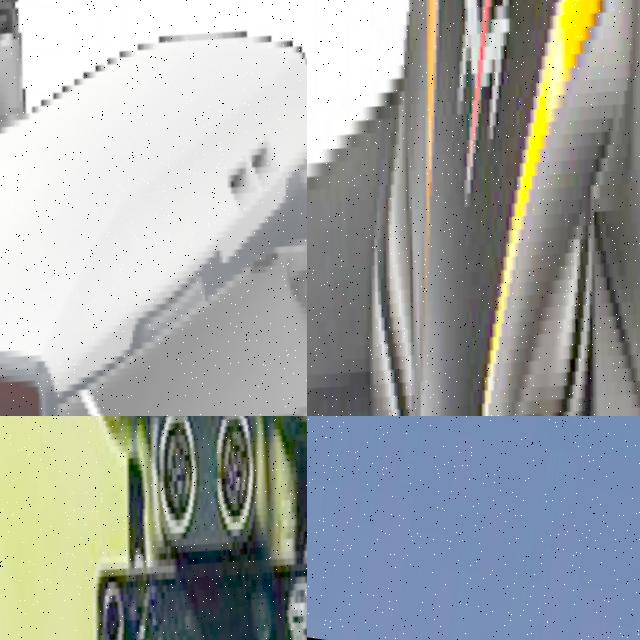drone: (307, 0, 640, 416), (0, 0, 307, 416), (0, 416, 307, 640)
